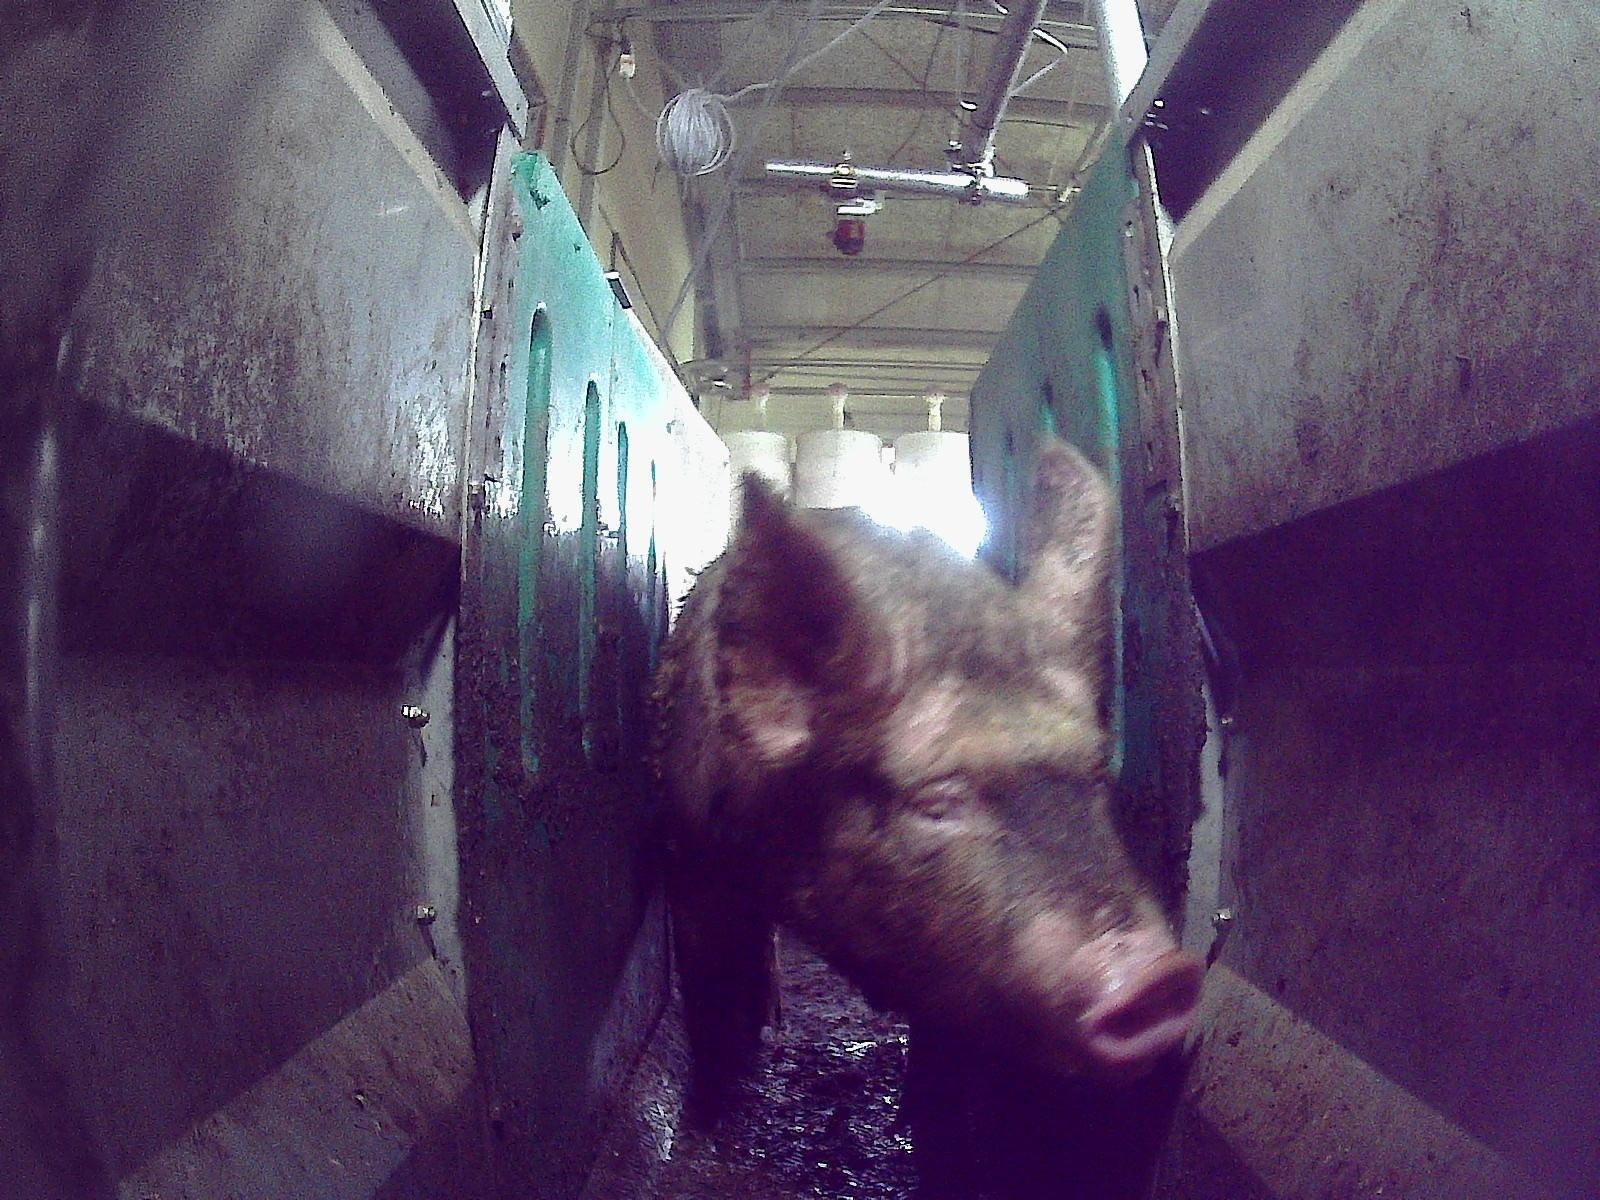Face: (758, 545, 1204, 1086)
